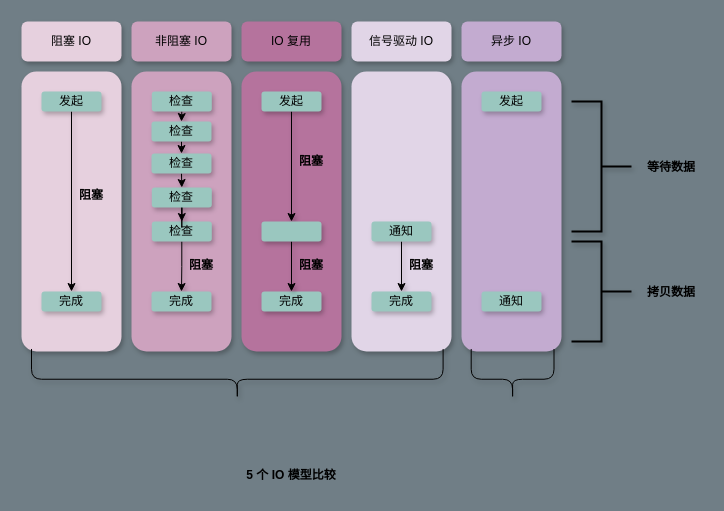
Image size: 724x511. Some labels were removed from this diagram. The shapes that lost their labels are listed below. From the top down, each one's centre as x and y in pixels, then its label:
the point at 292,232: 就绪
the point at 238,375: 第一阶段不同 第二阶段相同 阻塞于 recvfrom
the point at 513,375: 处理两个阶段
